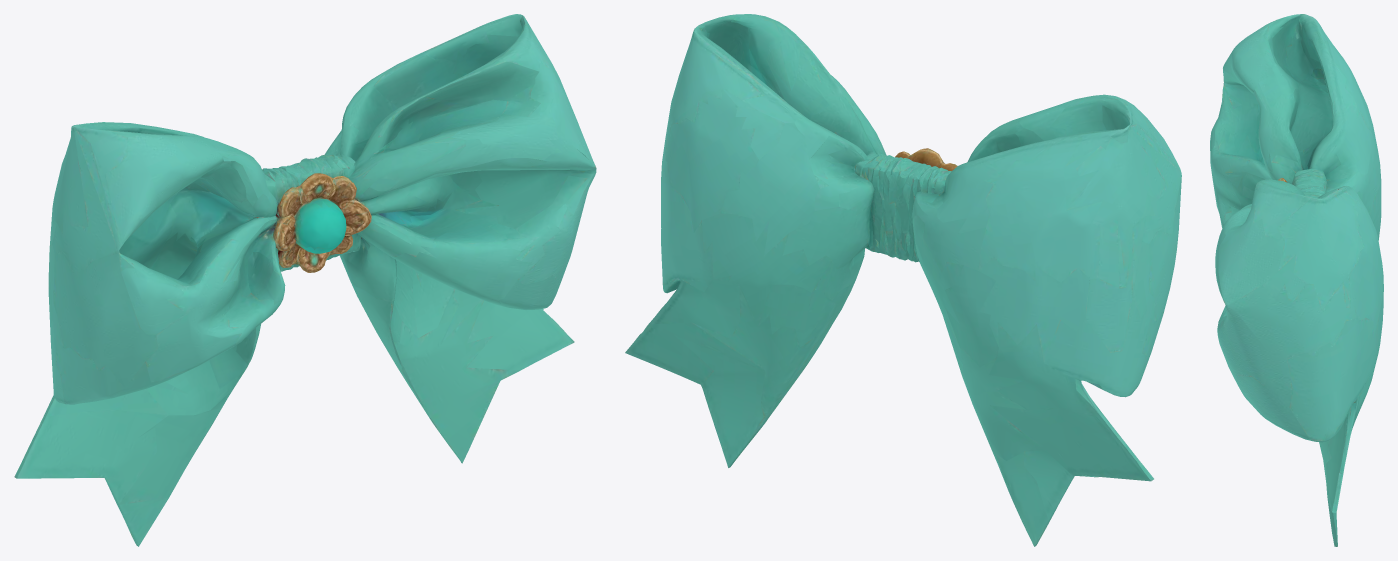
Rendered from ribbon.glb.
3 views of the same model, side by side, from view 1: azimuth 30°, elevation 25°; view 2: azimuth 150°, elevation 25°; view 3: azimuth 270°, elevation 25° (orthographic). The views are drawn at different scales.
Bounding box in the file's own units: 1.9 × 1.48 × 0.6206.
Materials: 1 (1 with a texture image).
